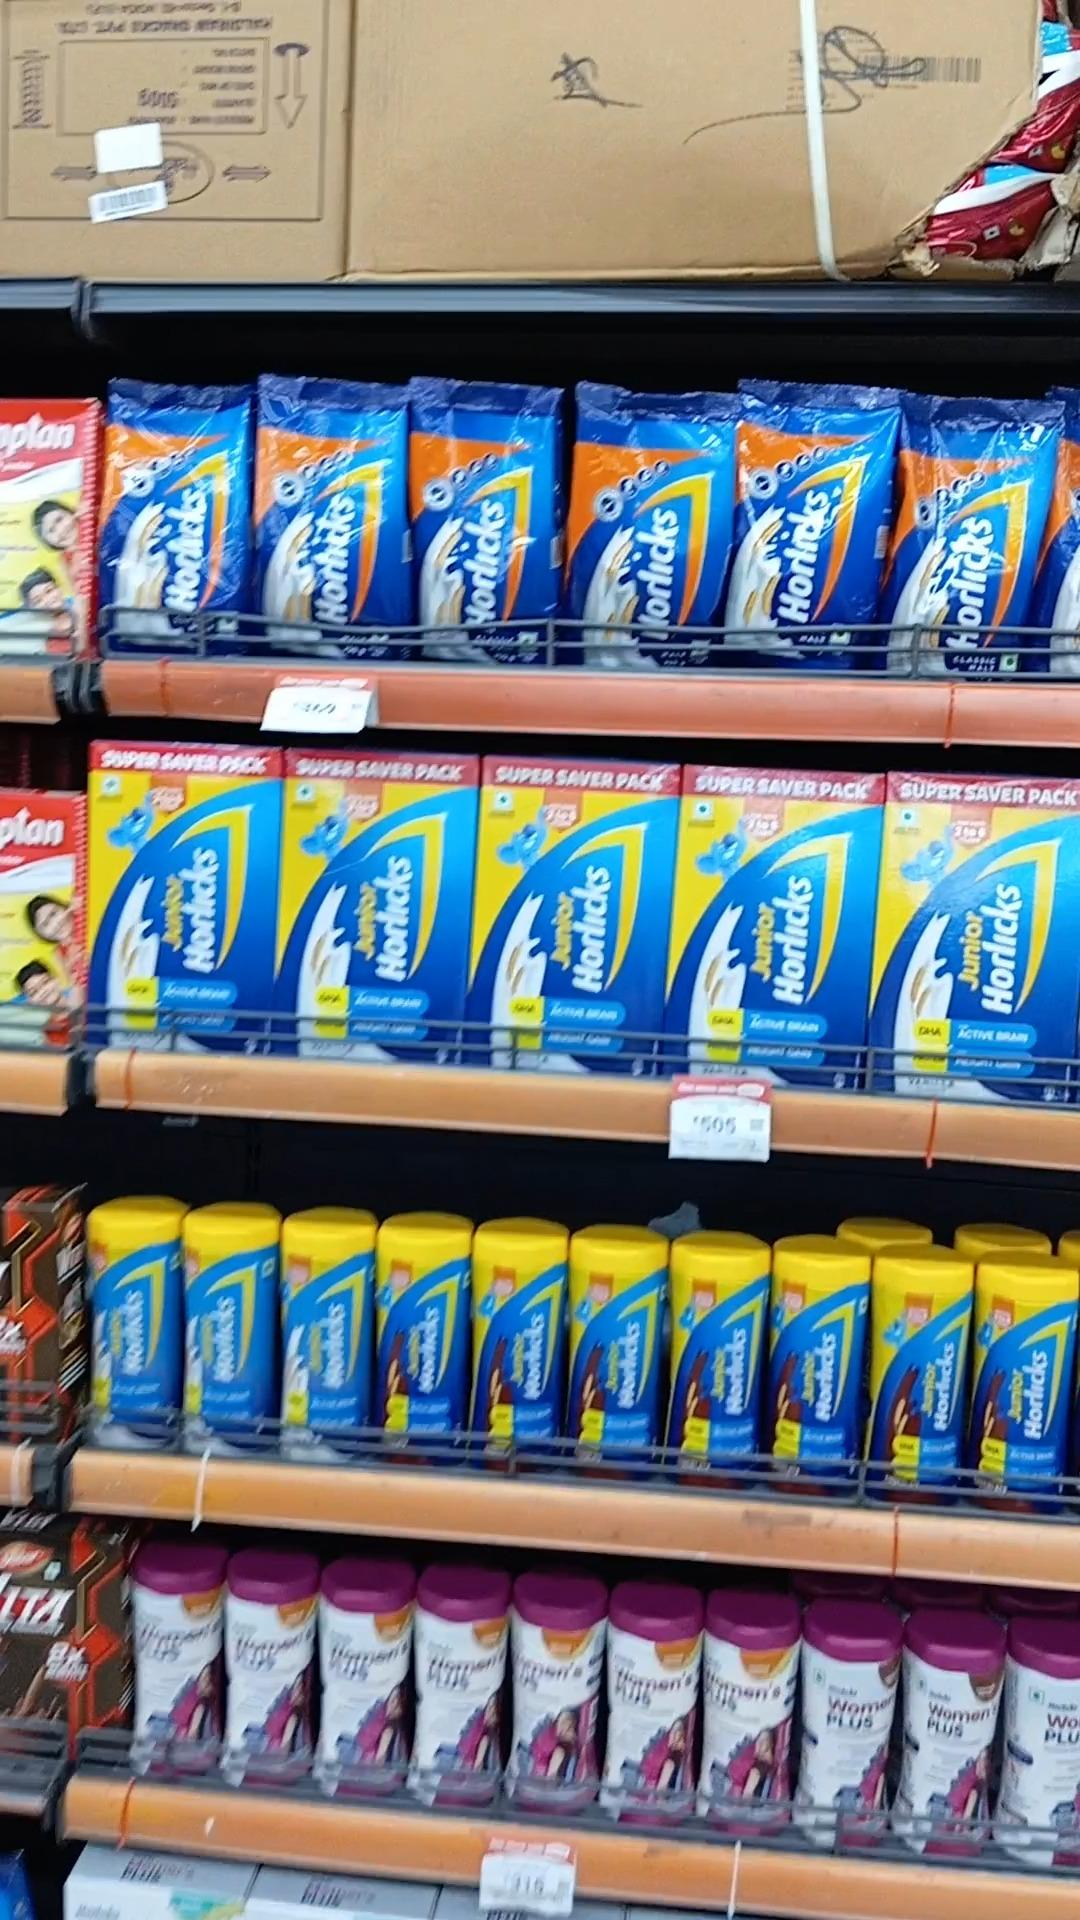HORLICKS_JUNIOR_VANILLA_500_GM_JAR: (976, 1255, 1080, 1524), (771, 1246, 865, 1513), (181, 1207, 276, 1457), (874, 1255, 967, 1510), (473, 1224, 564, 1478), (90, 1208, 182, 1458), (675, 1242, 766, 1491), (282, 1218, 373, 1462), (375, 1221, 463, 1472), (570, 1229, 654, 1481)
HORLICK_CLASSIC_MALT_750_G_POUCH: (256, 360, 409, 665), (572, 392, 731, 676), (413, 377, 564, 661), (899, 386, 1040, 690), (103, 364, 249, 655), (741, 384, 884, 683)
